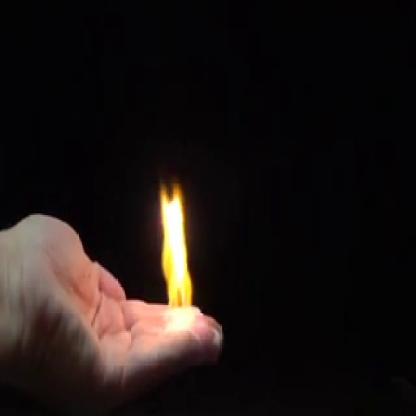fire: (152, 178, 199, 346)
